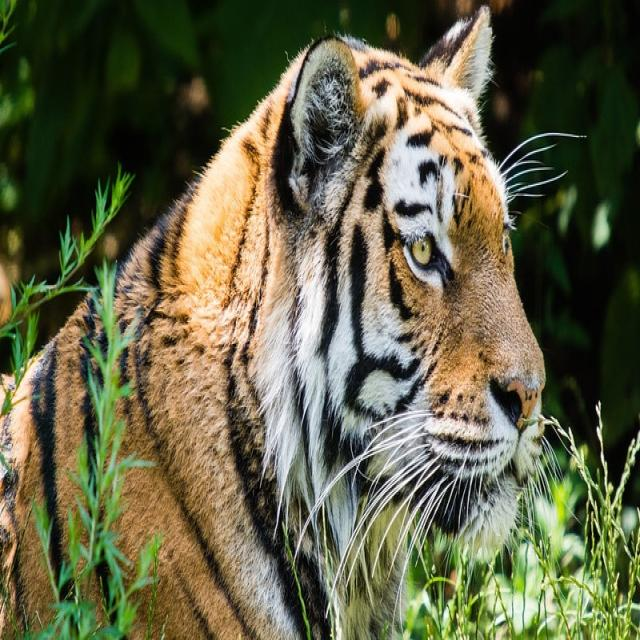Carnivorous: (0, 5, 548, 640)
